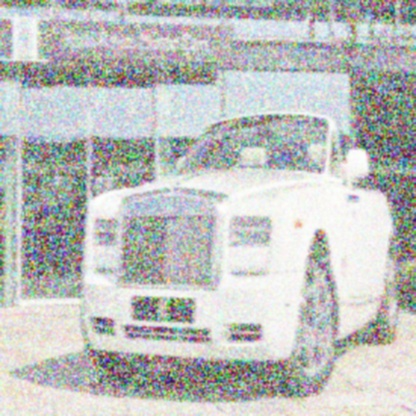Vehicle: (81, 119, 400, 399)
